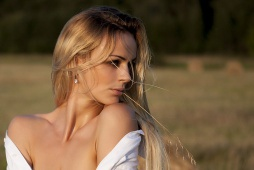female: (75, 22, 142, 110)
